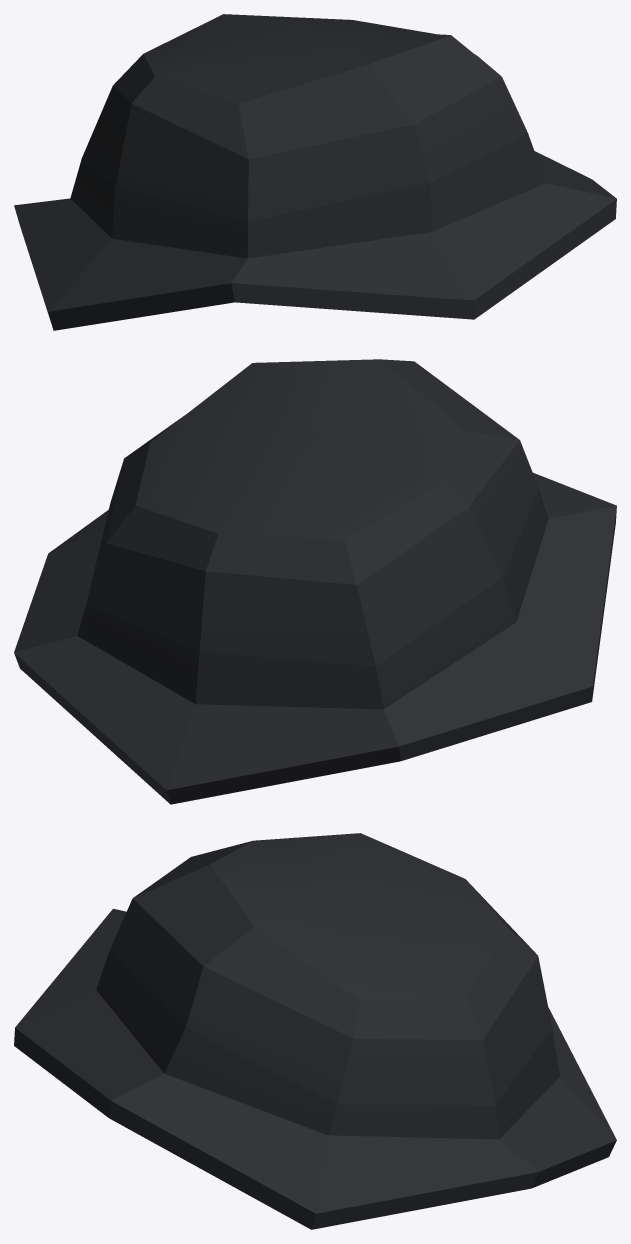
File: SM_Chr_Attach_Buckethat_01.fbx
The picture shows the model from 3 angles, top to bottom: view 1: azimuth 30°, elevation 25°; view 2: azimuth 150°, elevation 25°; view 3: azimuth 270°, elevation 25°; orthographic projection. The views are drawn at different scales.
Visible parts, largest first — view 1: SM_Chr_Attach_Buckethat_01; view 2: SM_Chr_Attach_Buckethat_01; view 3: SM_Chr_Attach_Buckethat_01.
Part boxes in pixels (left/top/right/bottom): SM_Chr_Attach_Buckethat_01: left=14, top=14, right=616, bottom=330; SM_Chr_Attach_Buckethat_01: left=14, top=359, right=616, bottom=804; SM_Chr_Attach_Buckethat_01: left=14, top=833, right=616, bottom=1229.
Size of the model in its own units: 44.75 by 23.33 by 43.9.
